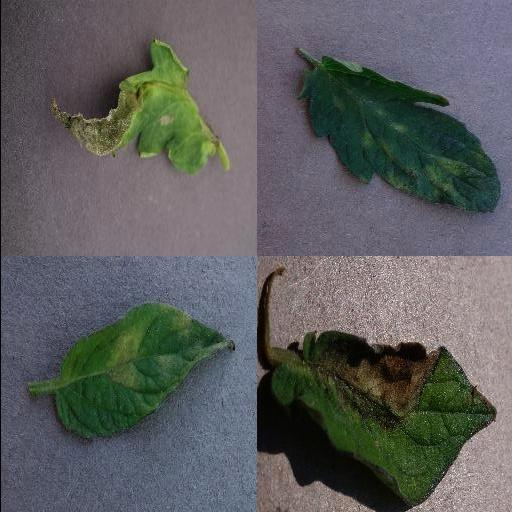Late Blight: (270, 332, 496, 510), (50, 36, 228, 176)
Leaf Mold: (295, 57, 501, 213), (54, 305, 234, 442)
